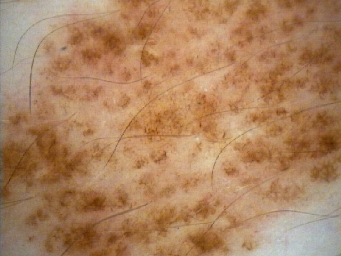nevus: (1, 1, 341, 255)
